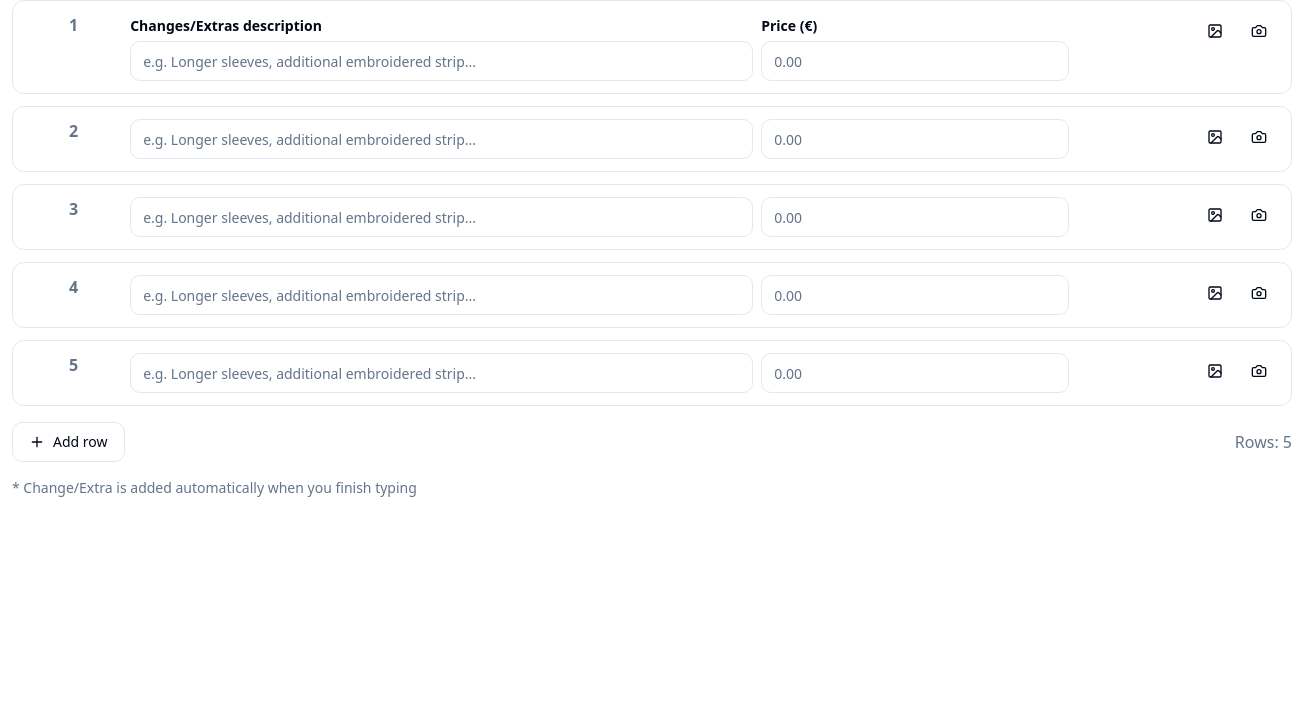
Test: Section3ChangesExtras › should allow adding rows up to 10
This screenshot has width=1304, height=701.
Click the button "Add row" at (68,442), box [12,422,124,462]
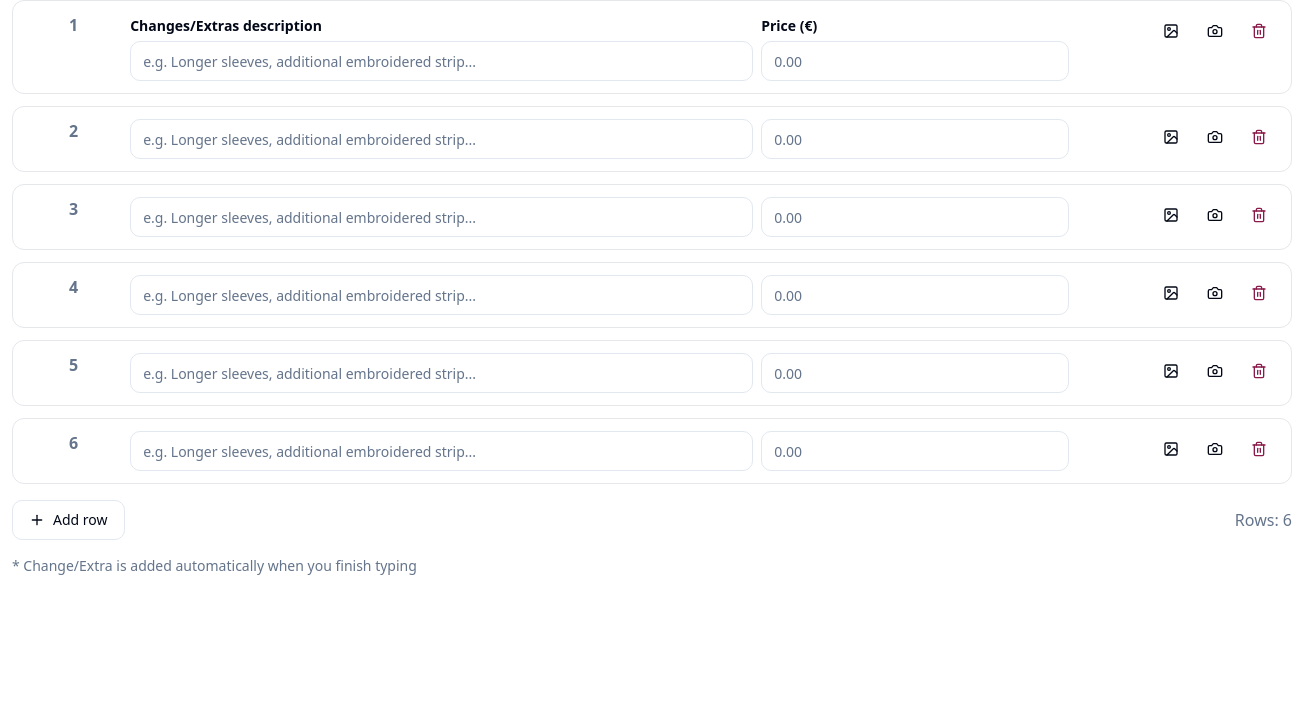
Click the button "Add row" at (68,520), box [12,500,124,540]
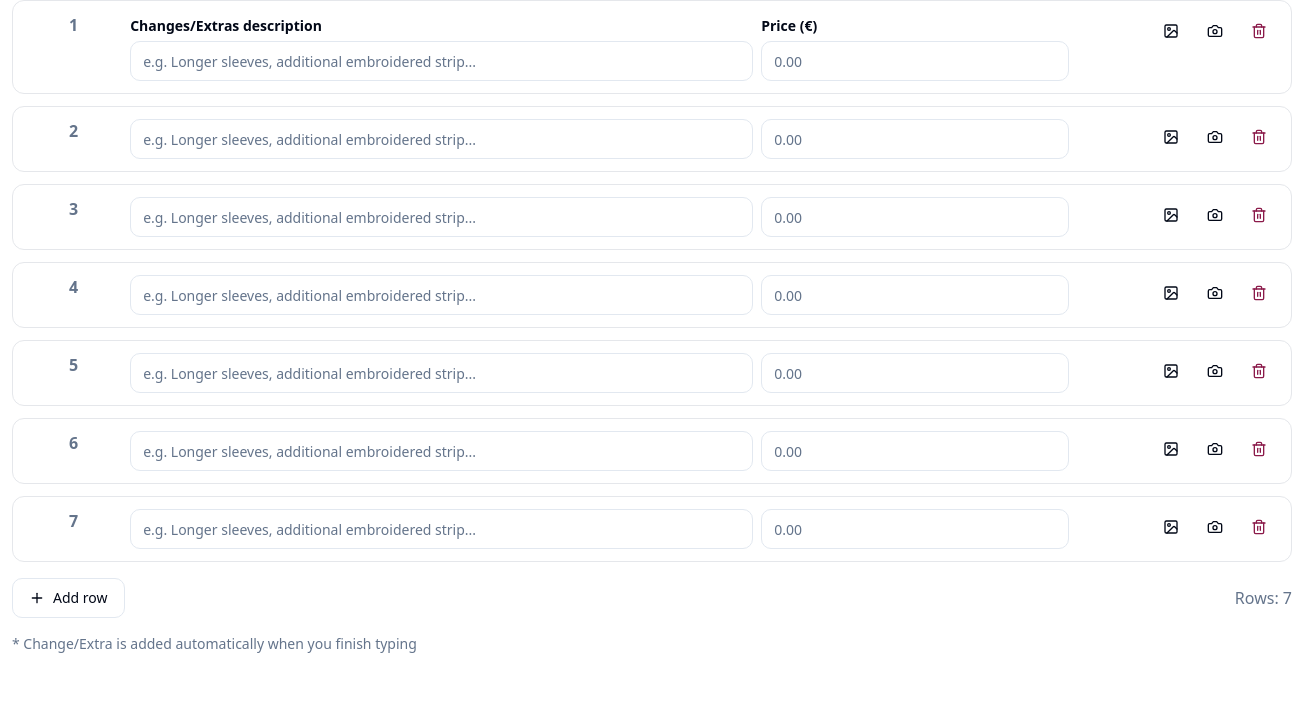
Click the button "Add row" at (68,598), box [12,578,124,618]
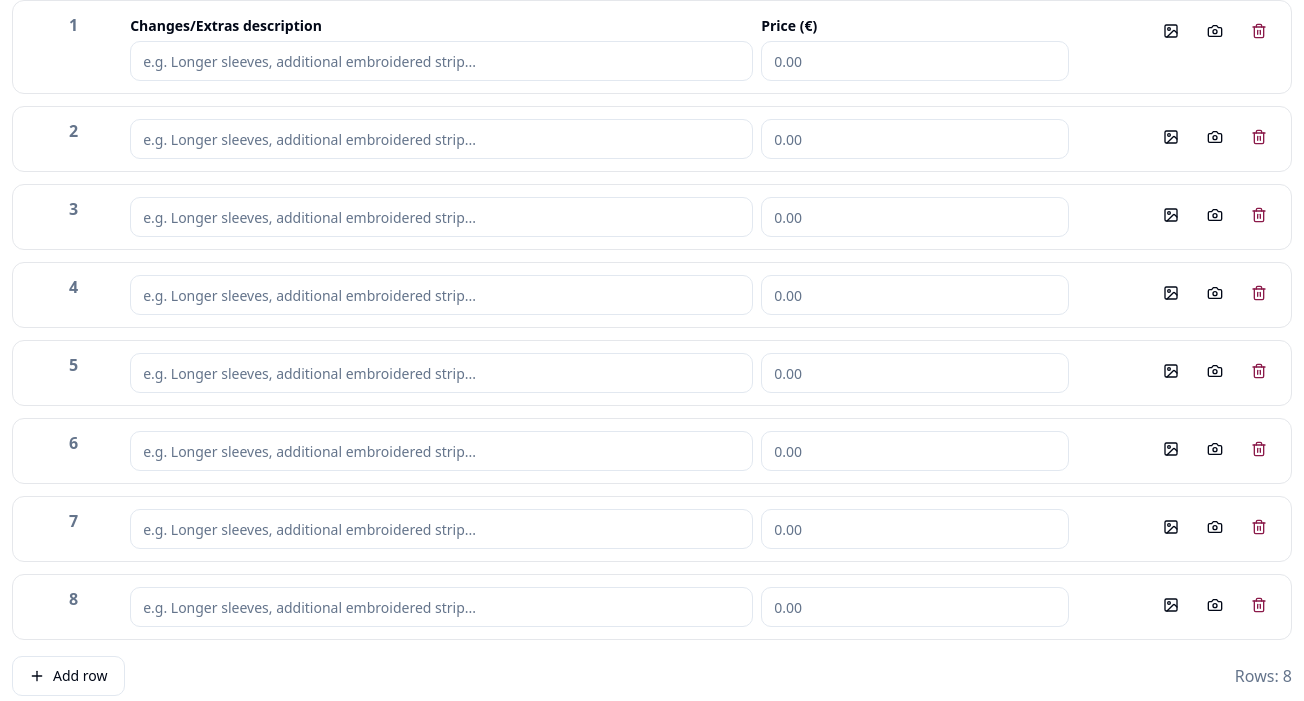
Click the button "Add row" at (68,676), box [12,656,124,696]
(page scrolled)
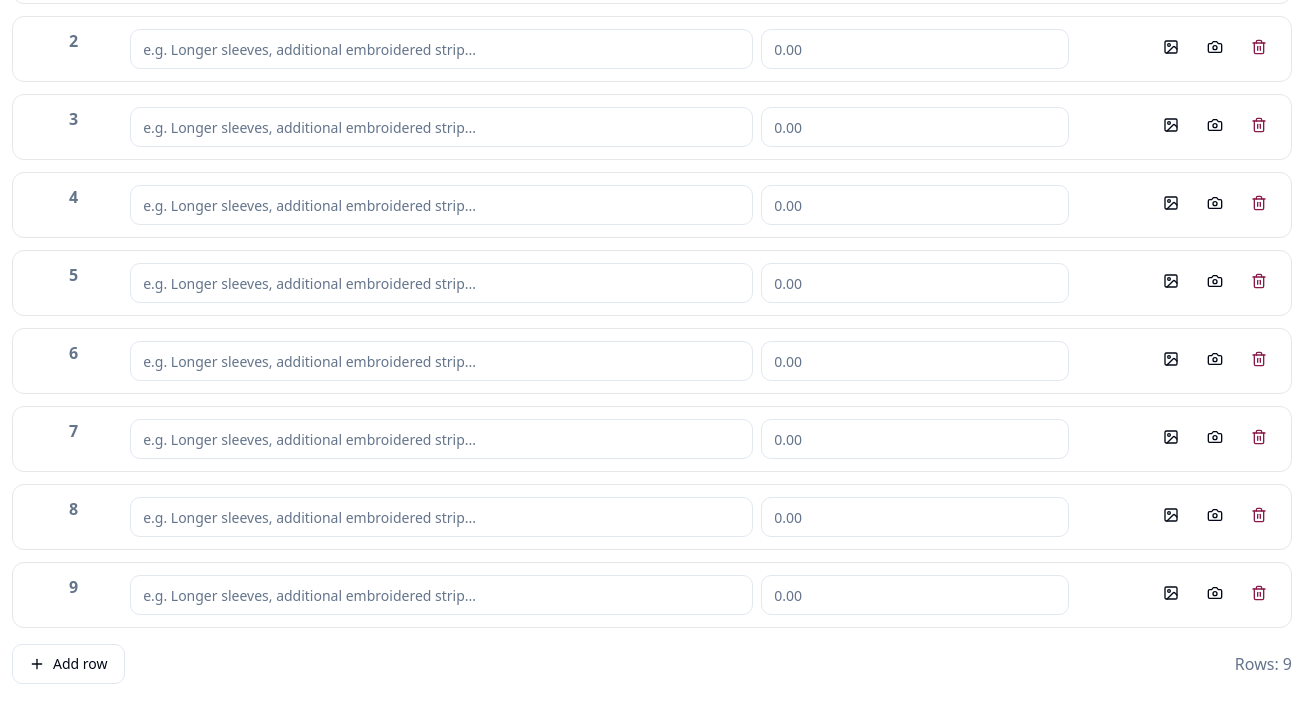
Click the button "Add row" at (68,664), box [12,644,124,684]
(page scrolled)
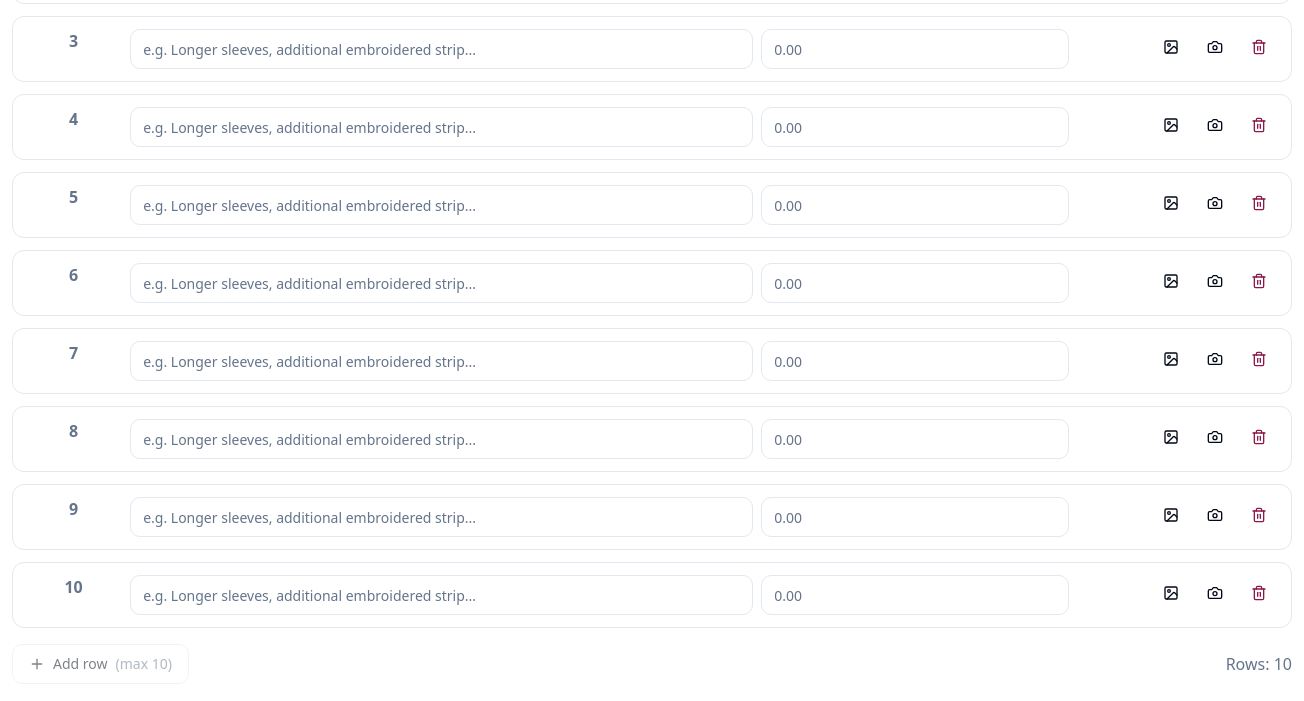
Expected: the button "Add row (max 10)" is disabled, [12,644,189,684]
